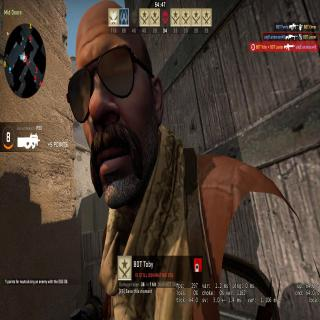T-Body: (54, 0, 313, 320)
T-Head: (65, 1, 164, 202)
